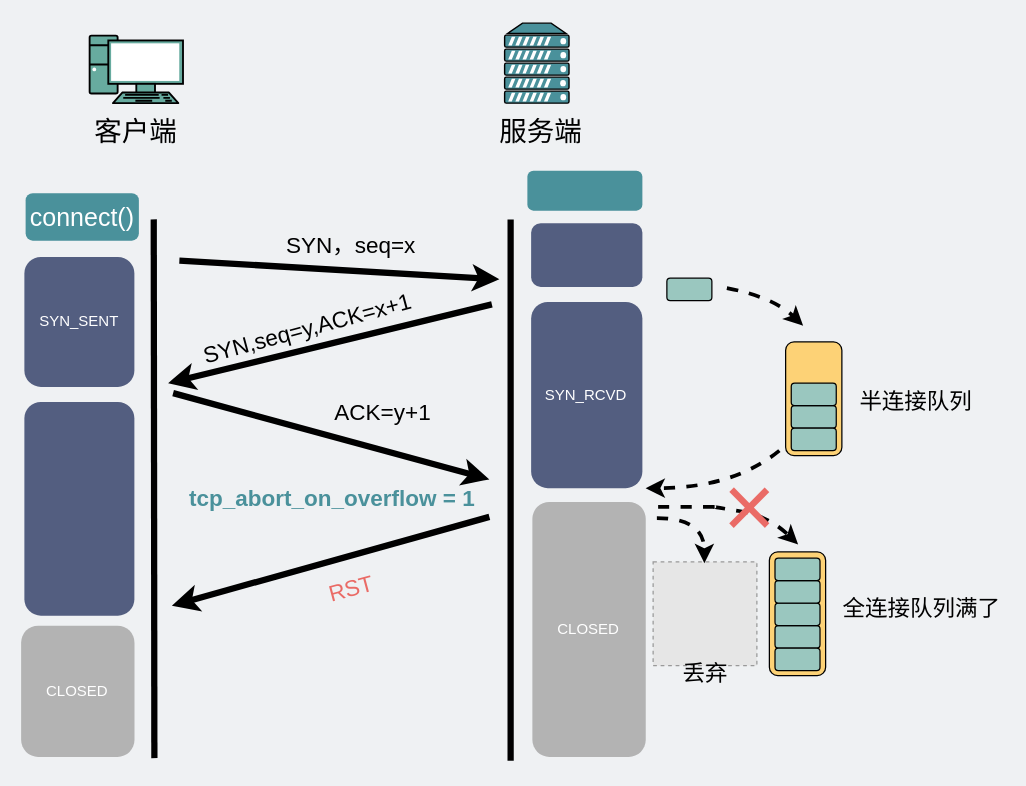
This 1026x786 diagram has some shape labels left out. Grey dashed boxes stand in for pictures. The centre of each missing label's shape, as x and y in pixels:
"ESTABLISHED" goes at point 79,508.
"LISTEN" goes at point 586,254.
"listen( )" goes at point 584,190.
